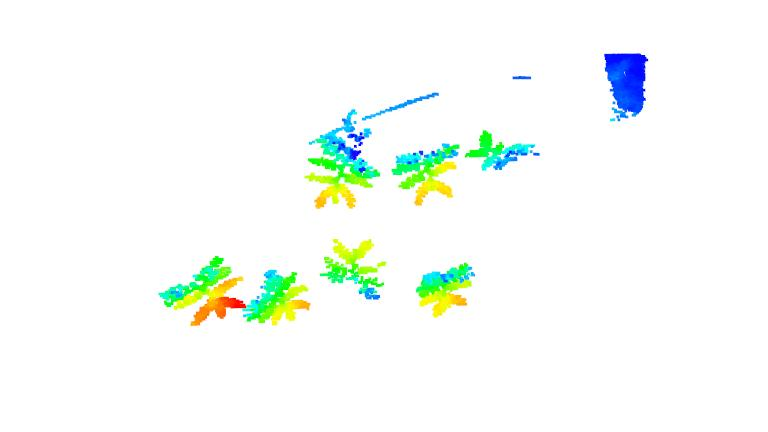chickpea: (308, 112, 383, 211), (159, 255, 242, 327), (392, 138, 462, 206), (320, 236, 387, 304), (241, 269, 311, 327), (416, 262, 480, 321), (464, 129, 543, 171)
